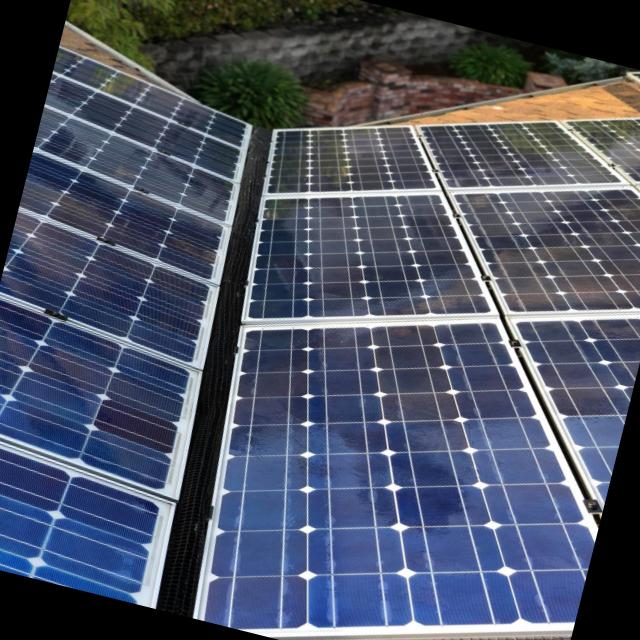no faulty: (205, 126, 640, 621), (0, 44, 237, 591)
